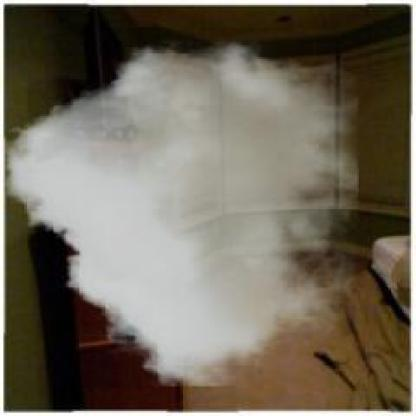Smoke: (5, 40, 359, 386)
